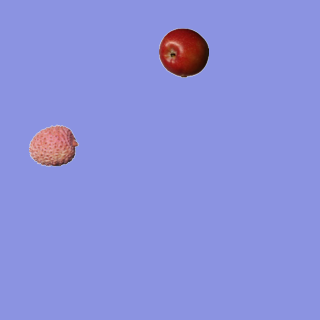Apple Braeburn: (158, 27, 208, 77)
Lychee: (28, 120, 78, 170)
